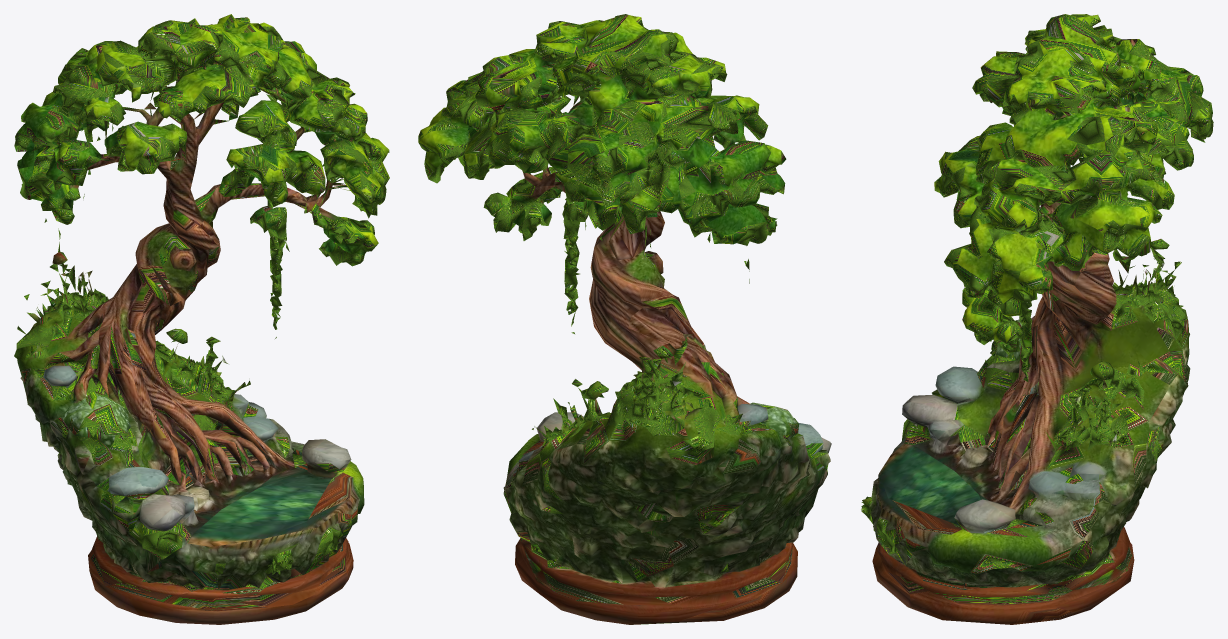
File: Whispering_Willow_of.glb
3 renders of one model, left to right at view 1: azimuth 30°, elevation 25°; view 2: azimuth 150°, elevation 25°; view 3: azimuth 270°, elevation 25°, orthographic. The views are drawn at different scales.
Visible parts, largest first — view 1: Whispering_Willow_of; view 2: Whispering_Willow_of; view 3: Whispering_Willow_of.
Part boxes in pixels (x1=…): Whispering_Willow_of: x1=14, y1=14, x2=389, y2=624; Whispering_Willow_of: x1=418, y1=14, x2=831, y2=624; Whispering_Willow_of: x1=861, y1=14, x2=1213, y2=624.
Bounding box in the file's own units: 1.25 × 1.89 × 1.13.
Materials: 1 (1 with a texture image).
